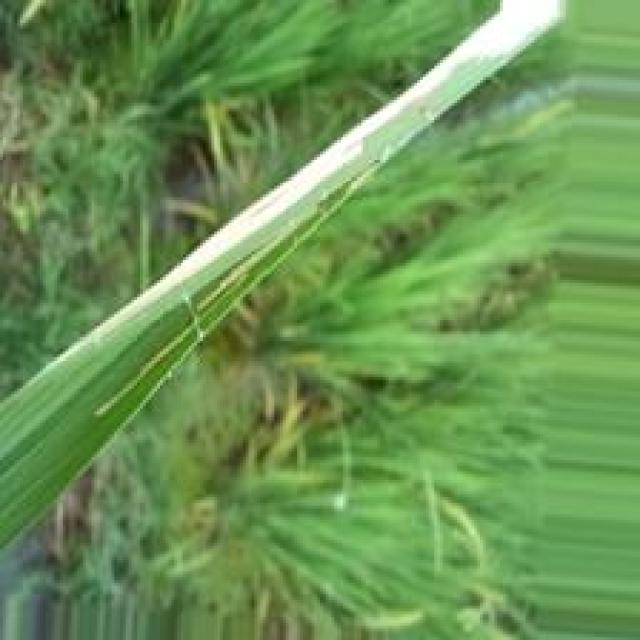Rice_Hispa: (50, 0, 571, 380)
